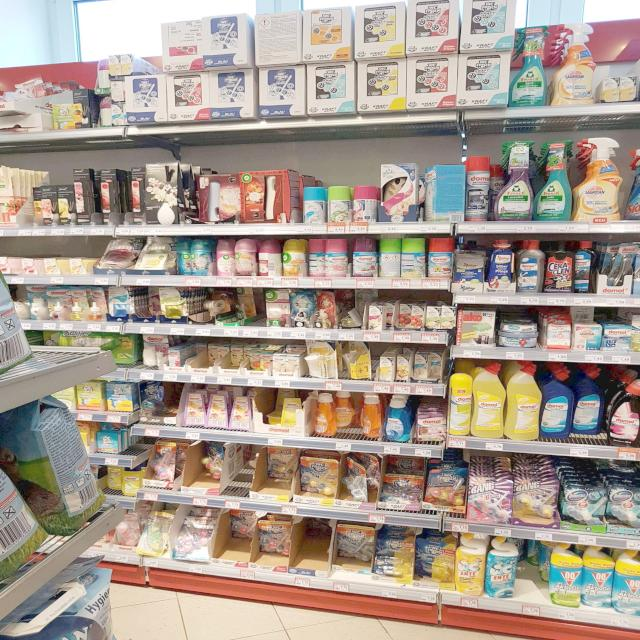empty_space: (306, 522, 330, 562), (520, 570, 540, 602), (229, 536, 251, 558)
